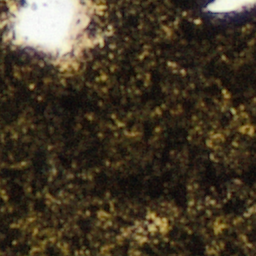cement_matrix: (0, 0, 255, 255), (152, 219, 164, 229)
gravel_crushed_stones: (2, 0, 102, 68), (209, 0, 255, 14), (153, 220, 163, 228)
